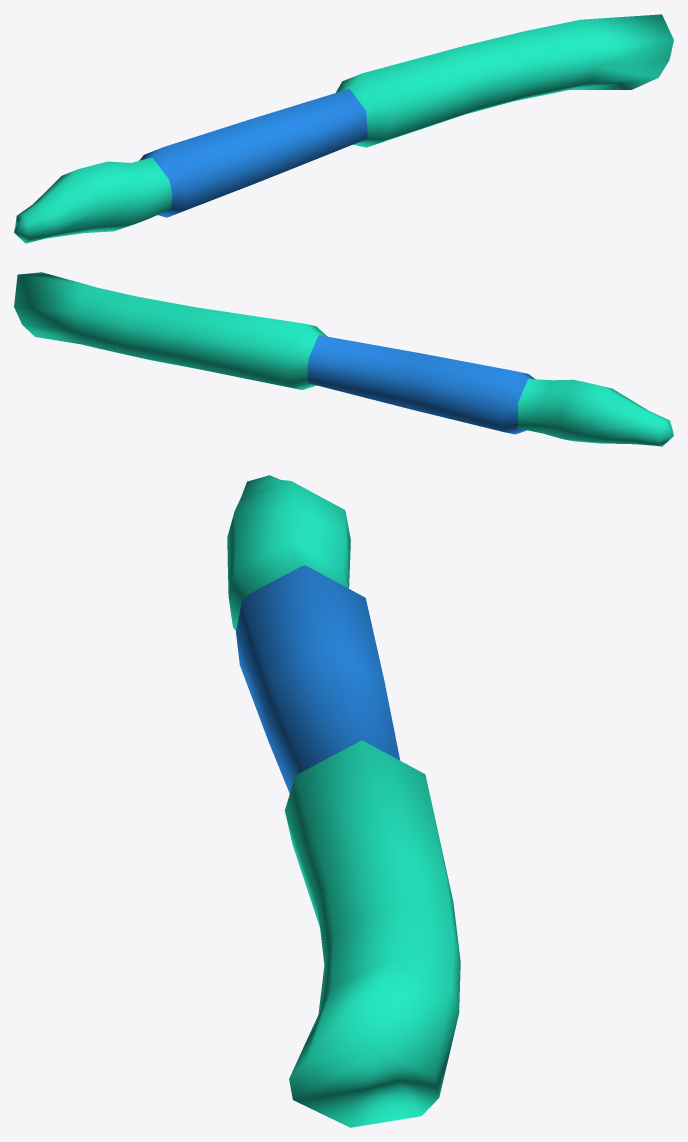
The model's file is braco 1.fbx.
The picture shows the model from 3 angles, top to bottom: view 1: azimuth 30°, elevation 25°; view 2: azimuth 150°, elevation 25°; view 3: azimuth 270°, elevation 25°; orthographic projection. The views are drawn at different scales.
Visible parts, largest first — view 1: Formiga.001; view 2: Formiga.001; view 3: Formiga.001.
Boxes of the visible parts, bbox=[...] form: Formiga.001: bbox=[14, 14, 673, 243]; Formiga.001: bbox=[14, 272, 673, 446]; Formiga.001: bbox=[227, 475, 460, 1127].
Bounding box in the file's own units: 546 × 61.93 × 87.91.
